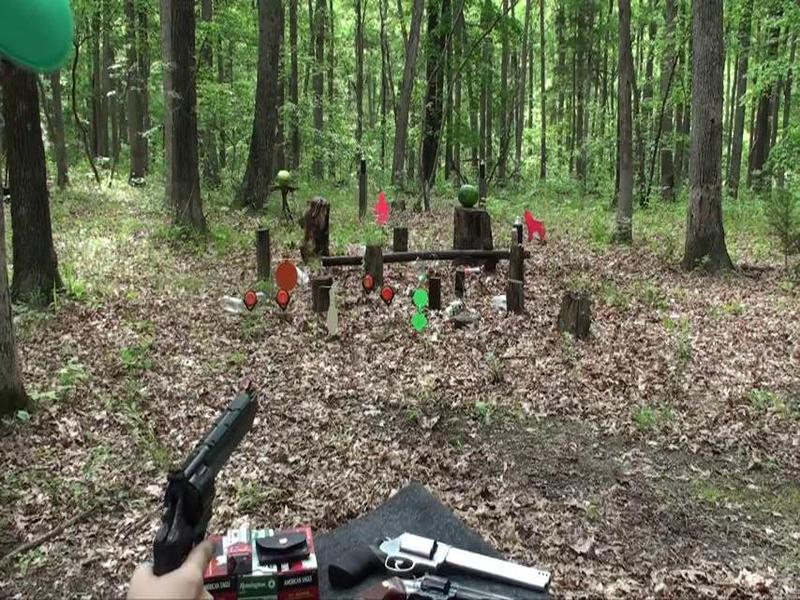Revolver: (147, 371, 264, 600)
